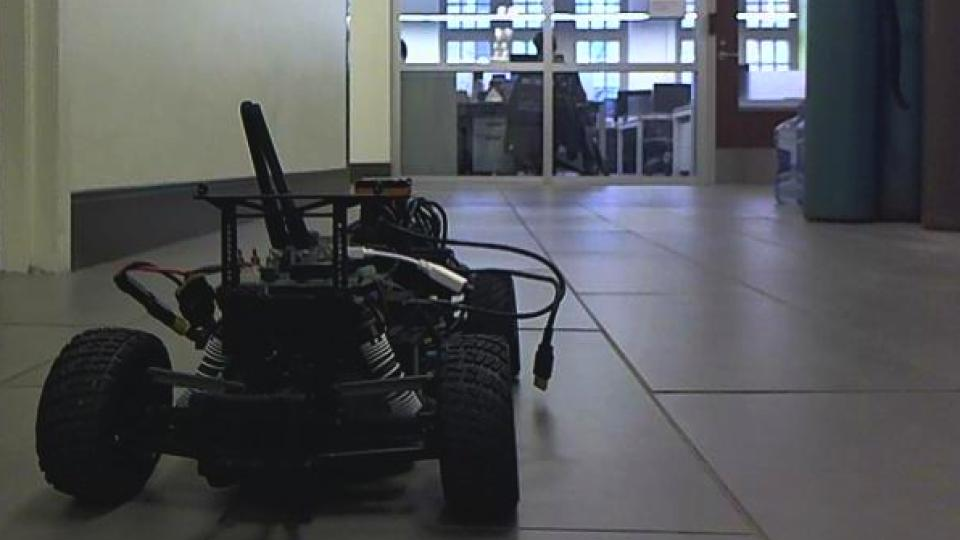car: (32, 97, 569, 540)
